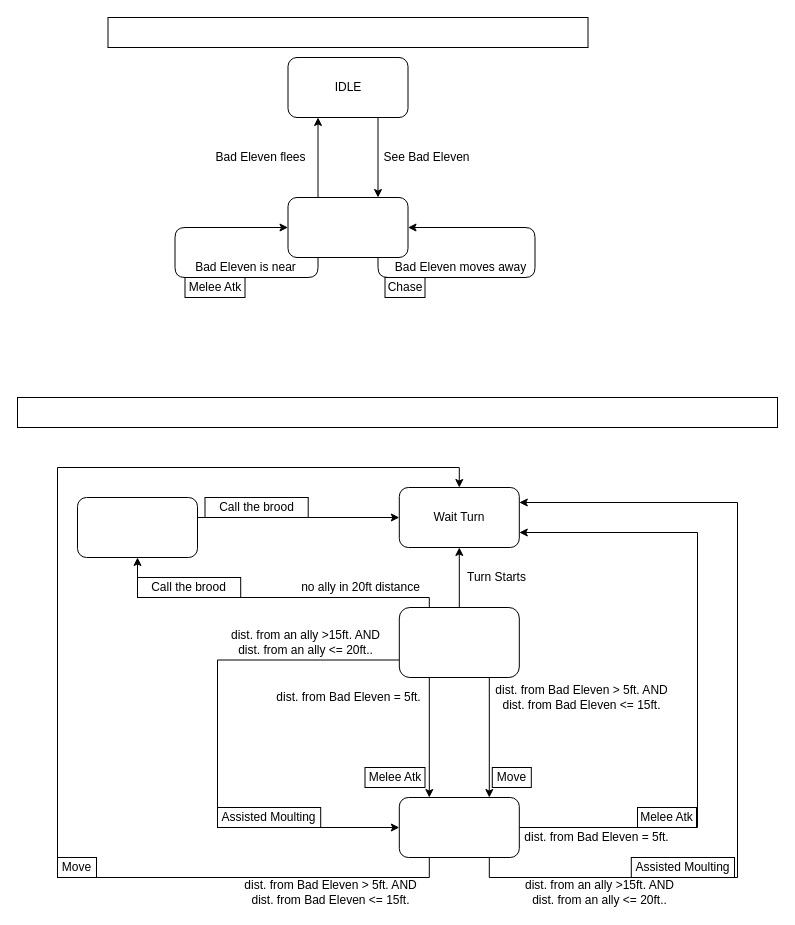
The diagram is 795 pixels wide and 925 high, and some of its shapes have lost their labels. The shapes that lost their labels are listed below. From the top down, each one's centre as x and y in pixels, then its label:
At (x=347, y=32): "Free Roaming".
At (x=347, y=227): "AGGRESSIVE".
At (x=397, y=412): "Battle Mode".
At (x=137, y=527): "Brood Call".
At (x=458, y=642): "Action One".
At (x=458, y=827): "Action Two".
